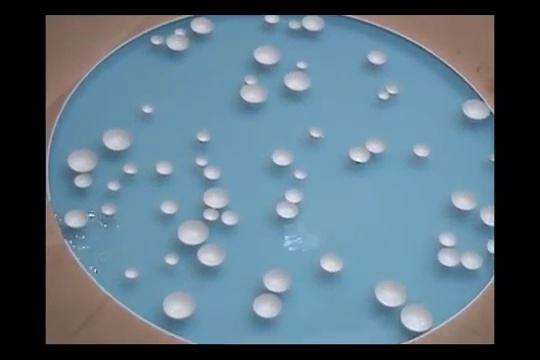bowl: (398, 303, 434, 334), (374, 279, 409, 307), (162, 291, 196, 319), (65, 147, 101, 173), (177, 219, 210, 245), (101, 128, 136, 152), (262, 267, 293, 293), (252, 294, 284, 318), (451, 186, 479, 212), (253, 44, 283, 68), (196, 243, 227, 266), (461, 99, 492, 122), (282, 71, 313, 93), (62, 207, 91, 229), (239, 84, 270, 104), (318, 252, 346, 274), (461, 248, 485, 273), (203, 187, 230, 209), (435, 248, 464, 268), (274, 200, 302, 220), (348, 146, 373, 167), (190, 17, 217, 35), (272, 147, 295, 167), (366, 48, 390, 67), (302, 14, 326, 32), (166, 35, 191, 51), (221, 208, 242, 227), (365, 137, 388, 154), (437, 230, 459, 247), (155, 159, 175, 177), (73, 173, 94, 190), (284, 187, 305, 204), (412, 142, 431, 160), (159, 199, 180, 215), (480, 203, 494, 227), (203, 165, 223, 181), (101, 201, 118, 218), (202, 207, 220, 223), (308, 124, 325, 140), (242, 74, 261, 87), (163, 251, 179, 266), (264, 14, 283, 26), (106, 179, 122, 193), (294, 58, 311, 71), (197, 129, 212, 143), (294, 167, 309, 181), (386, 83, 401, 97), (140, 103, 156, 116), (123, 163, 139, 176), (148, 34, 164, 47), (124, 267, 139, 280), (288, 17, 302, 30), (195, 155, 209, 167), (376, 91, 390, 103), (485, 239, 494, 256), (174, 27, 190, 35), (490, 152, 494, 164)
